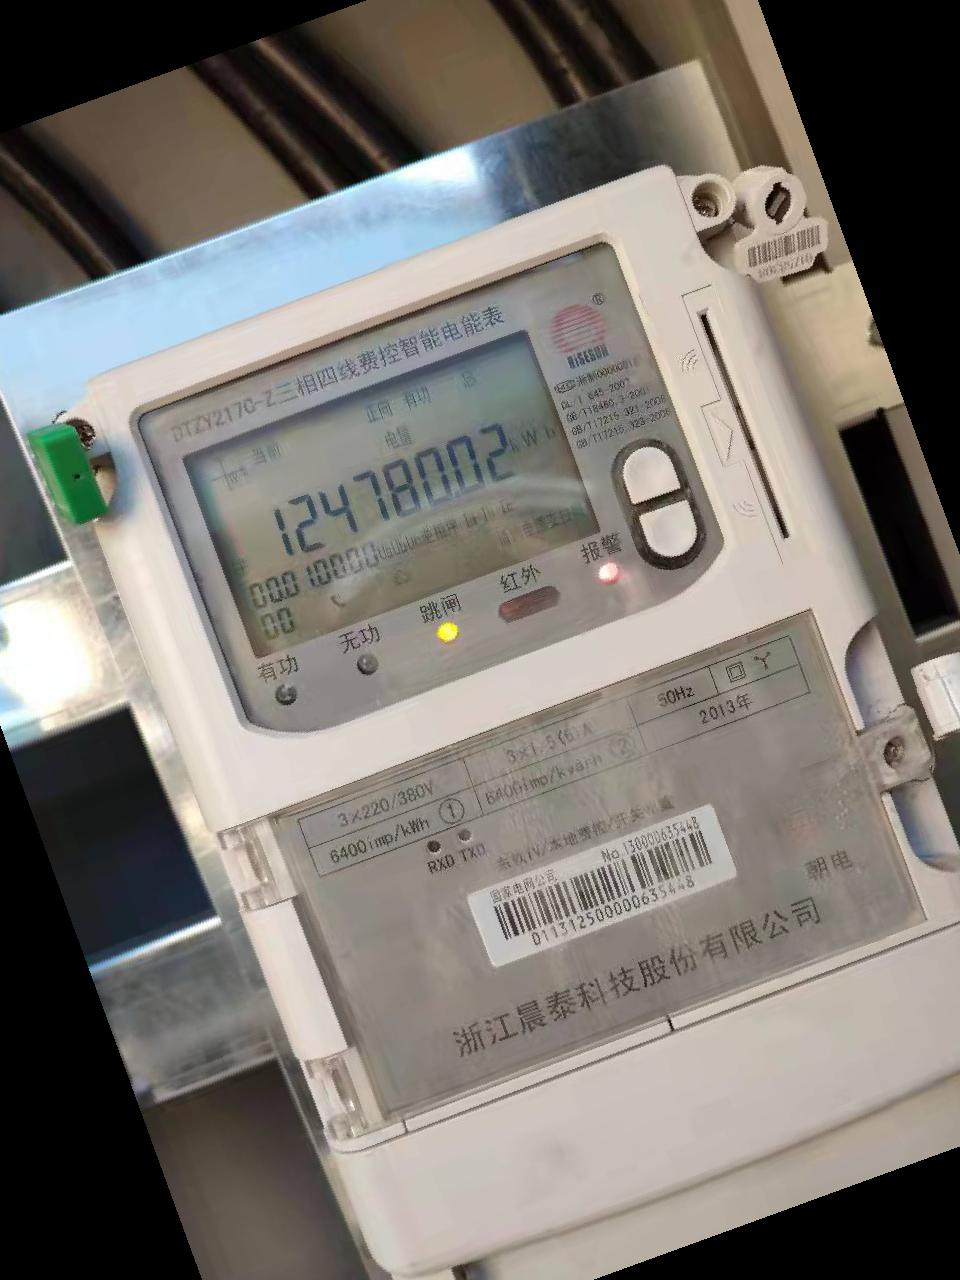digital: (97, 164, 955, 1280)
